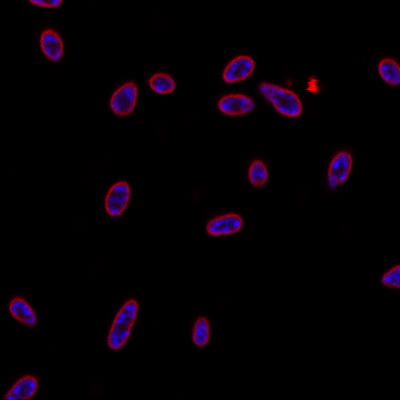Mecillinam: (104, 296, 140, 351), (107, 79, 138, 117), (102, 178, 132, 217), (221, 54, 257, 85), (203, 212, 244, 236), (37, 28, 65, 63), (7, 295, 37, 326), (375, 55, 400, 86), (146, 71, 175, 95), (246, 158, 269, 188), (190, 314, 211, 345)
Oblique: (256, 80, 306, 120), (325, 149, 354, 189), (216, 90, 256, 116)
Vesicle: (306, 75, 322, 95)
